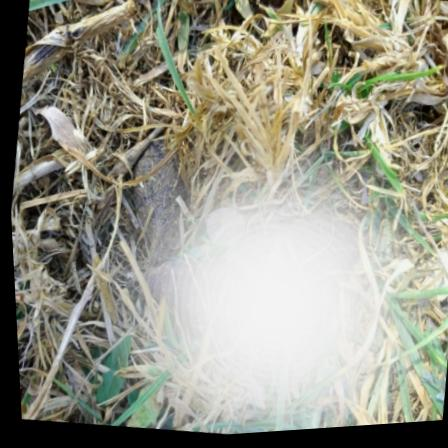dog-poop: (116, 139, 195, 260)
